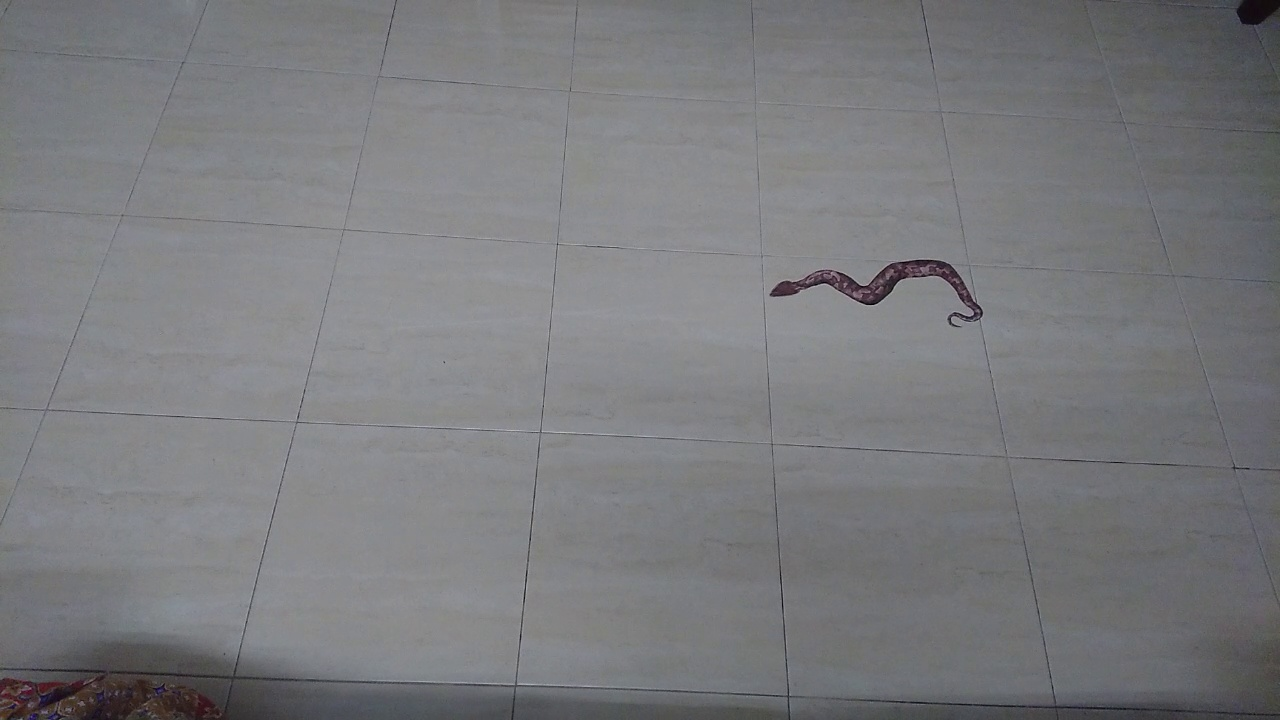snake: (740, 248, 994, 342)
